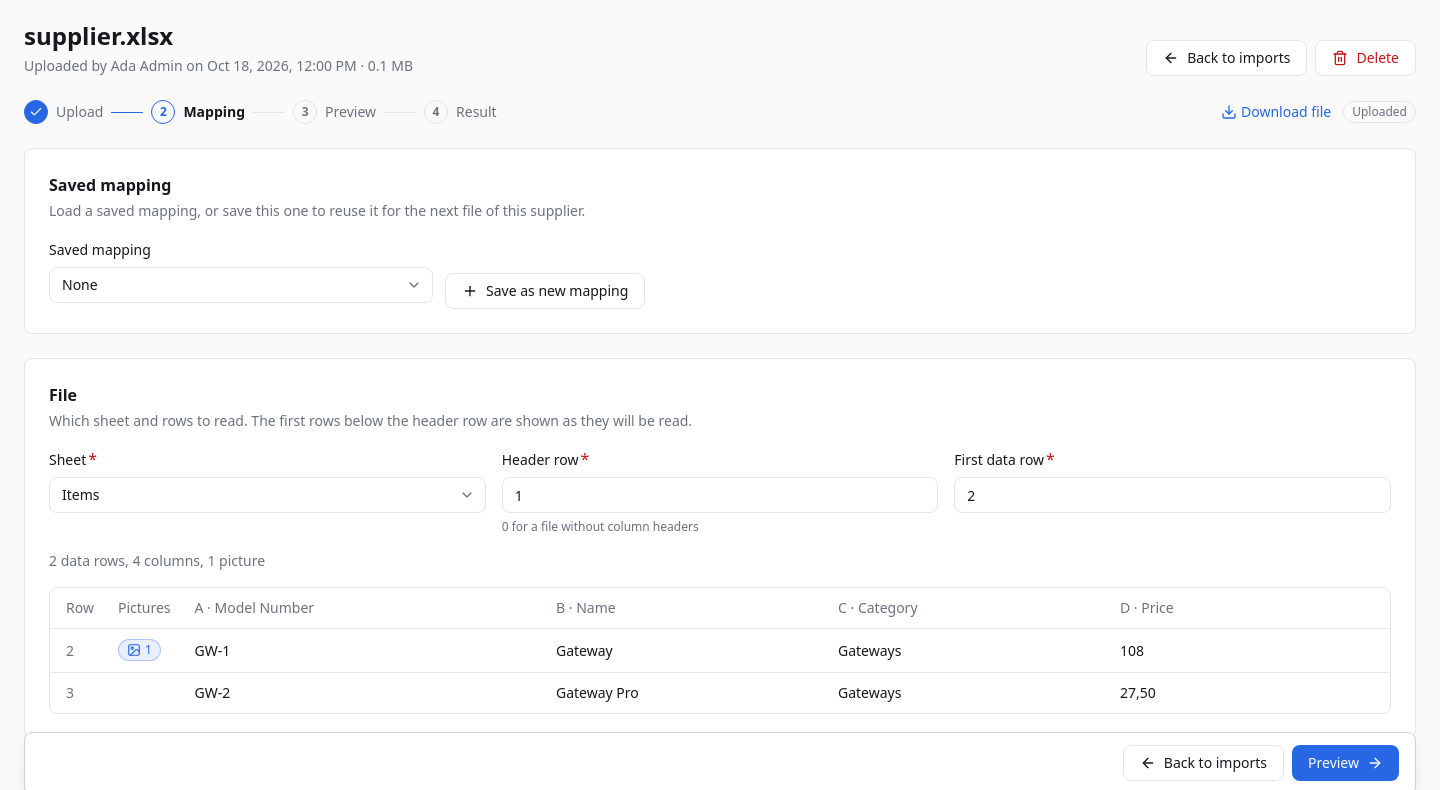
Test: MappingStep: preview › shows the running preview for the whole step and keeps the form unchangeable meanwhile
Click the button "Preview". click: (1346, 763)
box: [1292,745,1399,781]
(page scrolled)
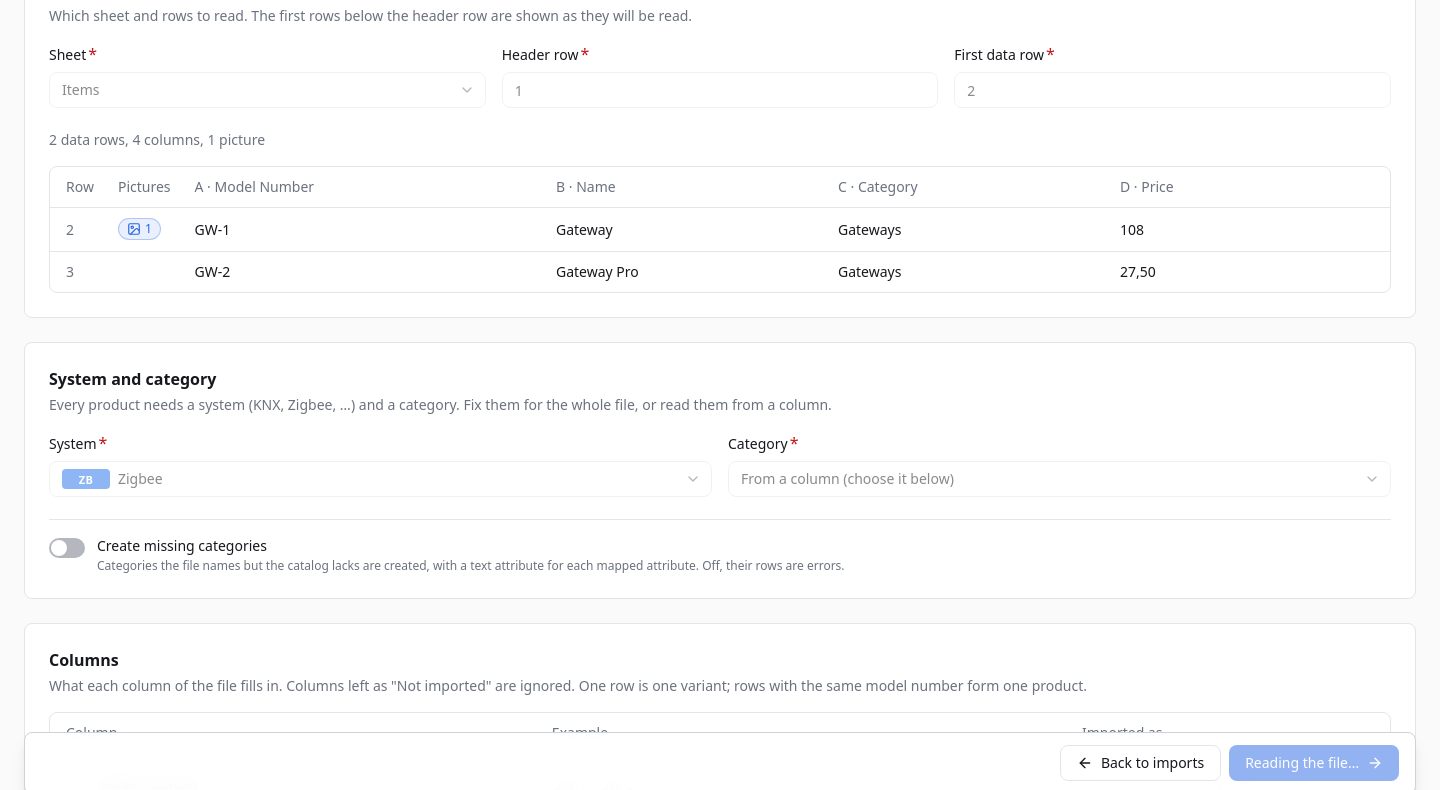
Expected: the number field labelled "Header row" is disabled, [502,72,938,108]
Now the button "Reading the file…" is disabled, box [1229,745,1399,781]
